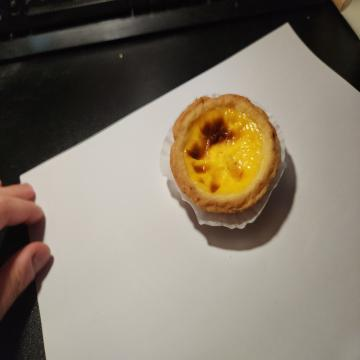EggTart: (170, 90, 280, 214)
